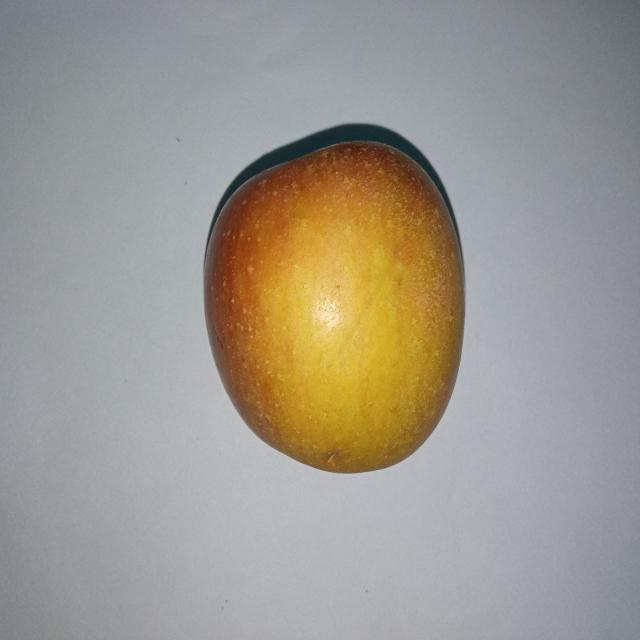fresh_apple: (200, 136, 464, 475)
